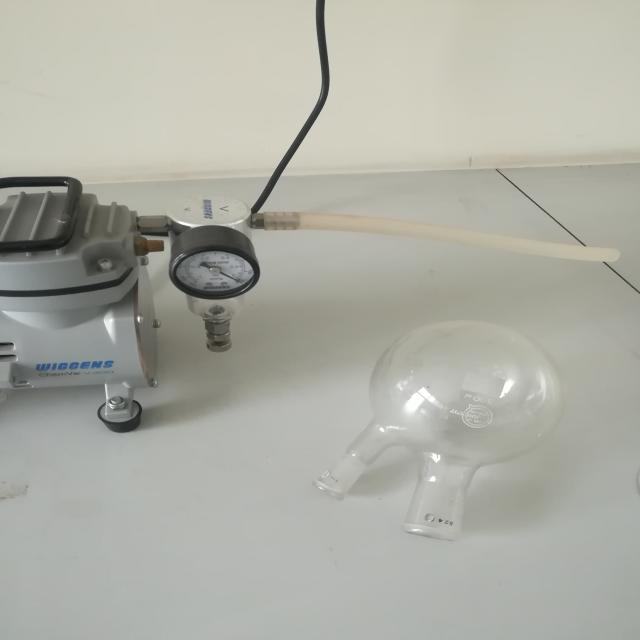Round_Bottom_Flask_Borosilicate_Glass_2_Neck: (286, 292, 598, 574)
